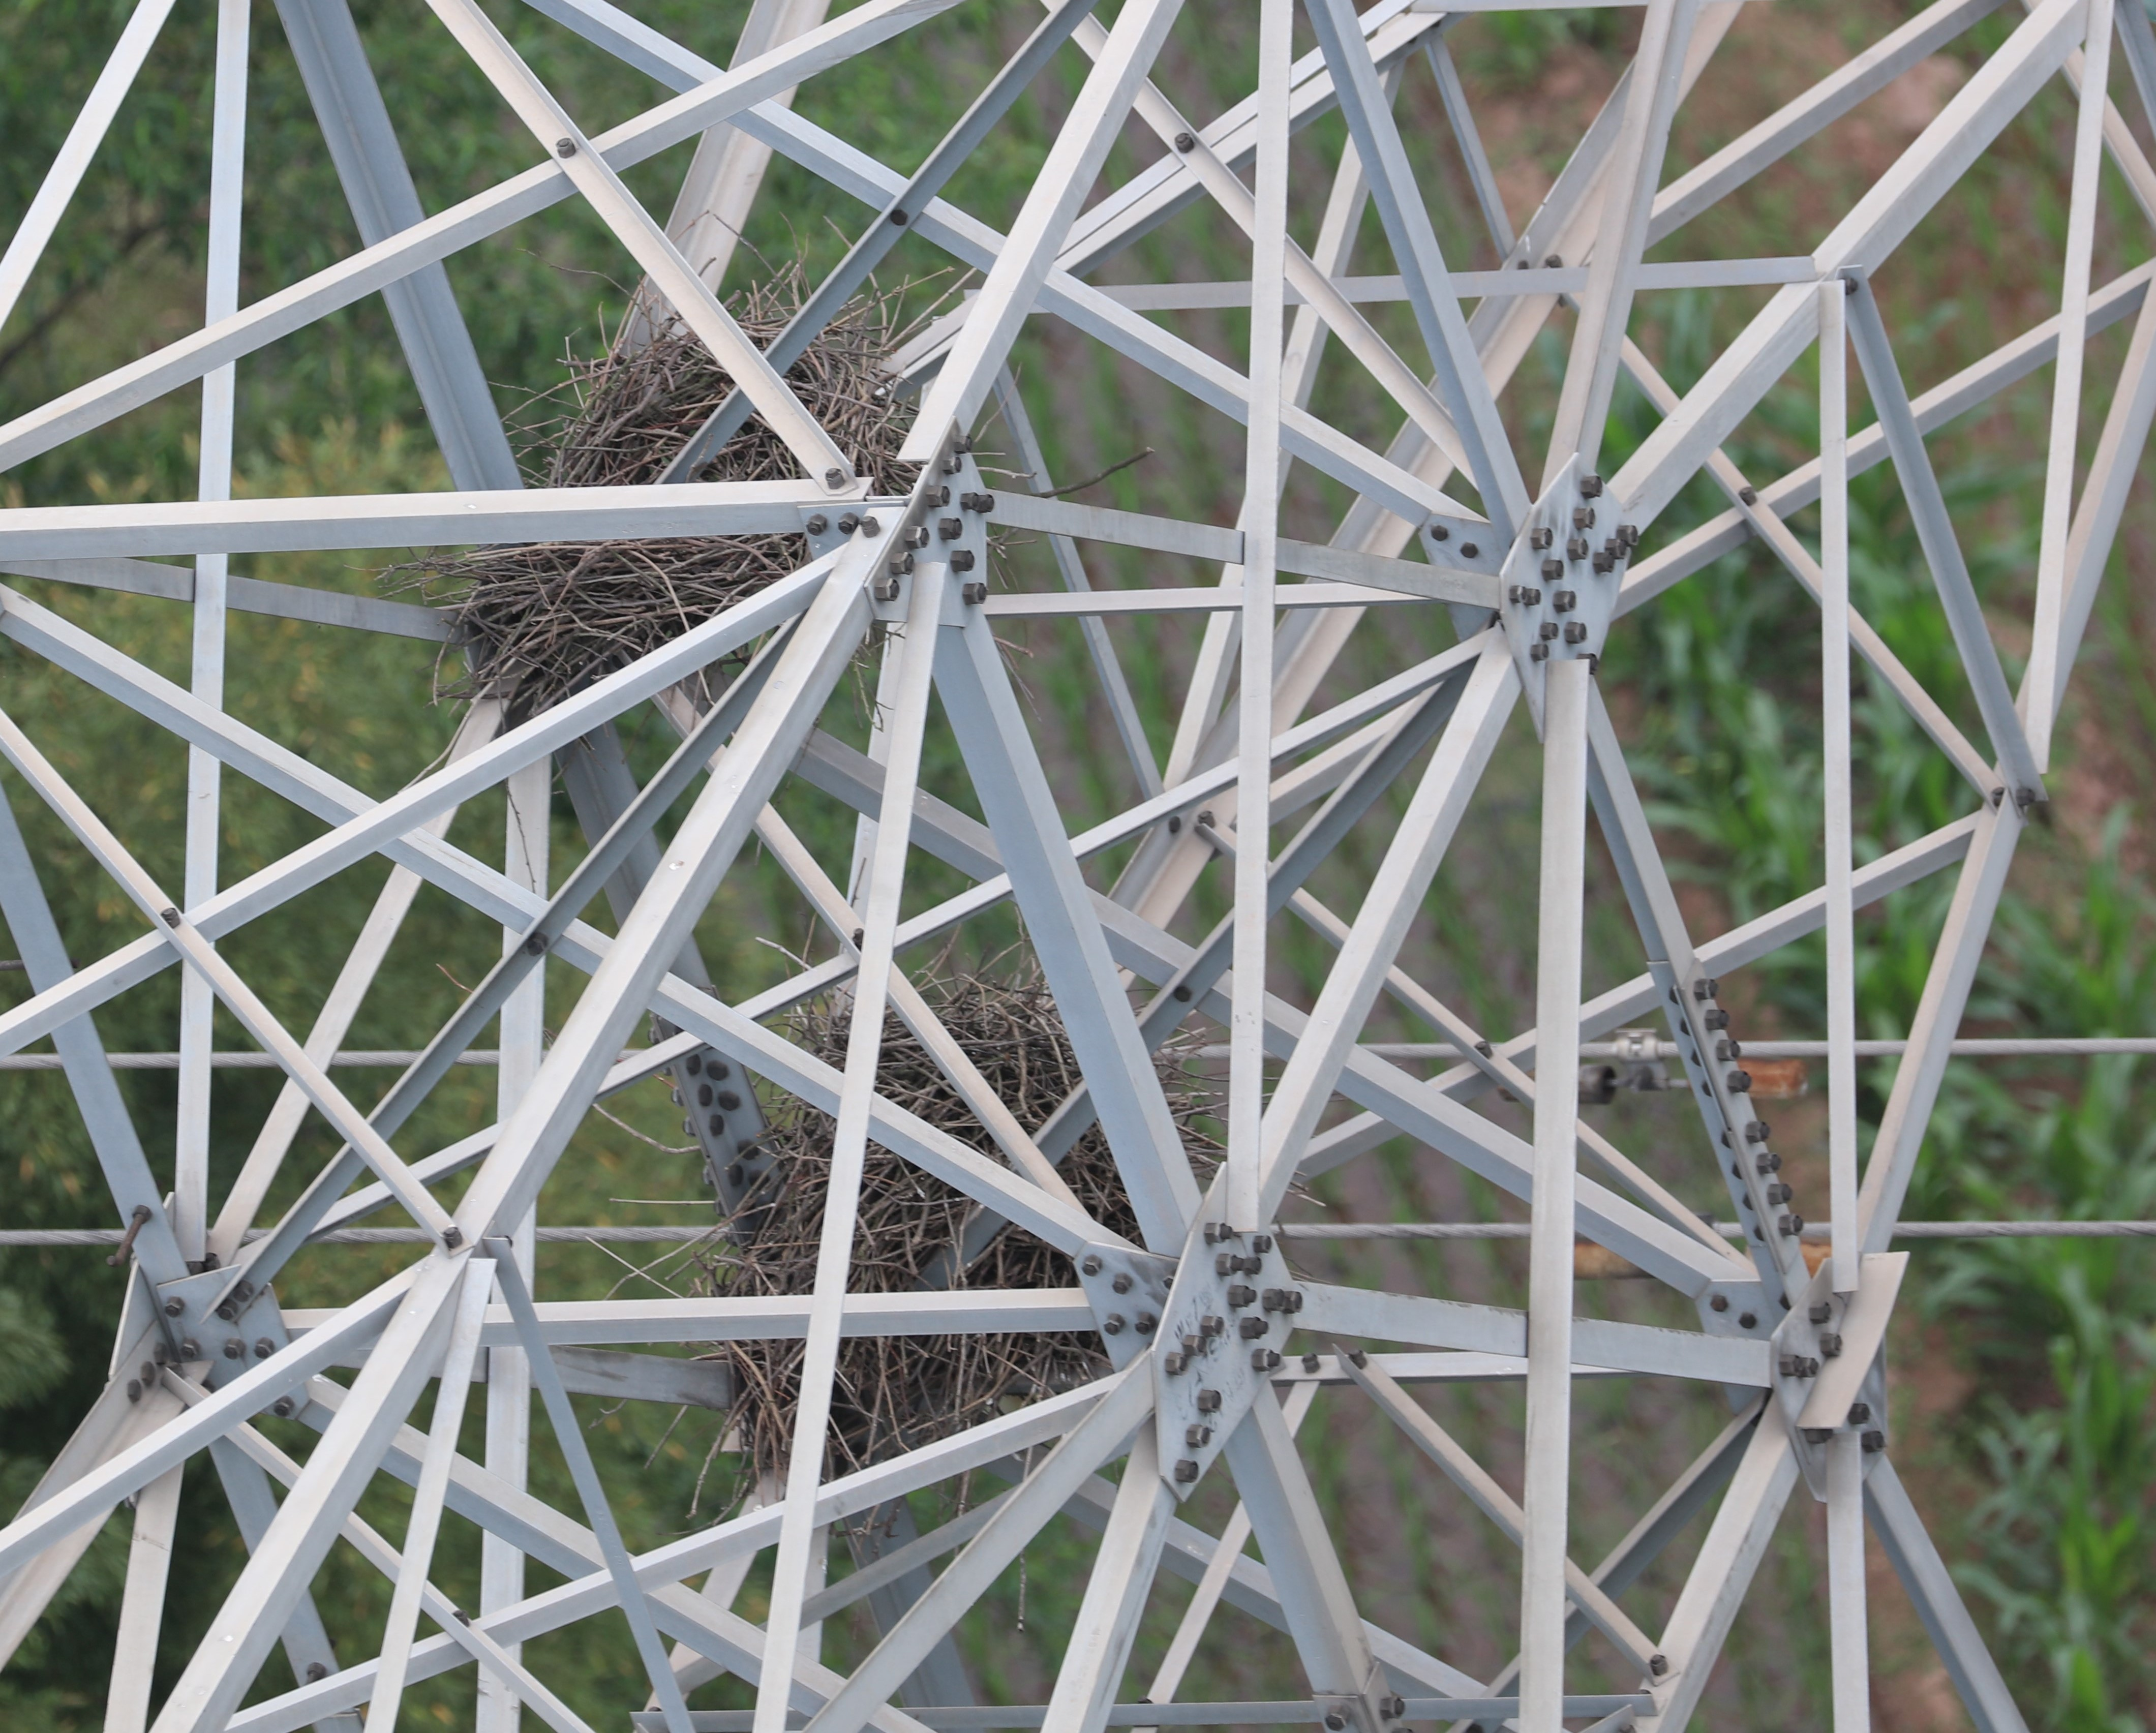niaowo: (679, 957, 1199, 1482), (393, 276, 967, 709)
